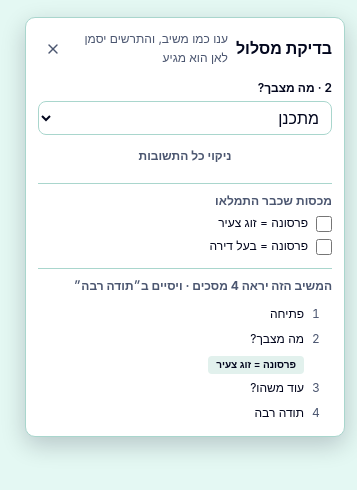
Test case: the path check’s quota switches › ticking the switch reroutes the previewed respondent to the quota-full screen
This screenshot has width=357, height=490.
Expected: the text "המשיב הזה יראה 4 מסכים · ויסיים ב״תודה רבה״" is shown, [38,268,332,295]
Step 1. Click the checkbox labelled "פרסונה = זוג צעיר" → (324, 224), box [316,216,332,232]
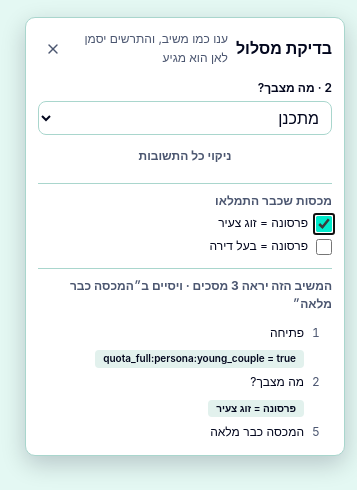
Expected: the text "המשיב הזה יראה 3 מסכים · ויסיים ב״המכסה כבר מלאה״" is shown, [38,268,332,314]
